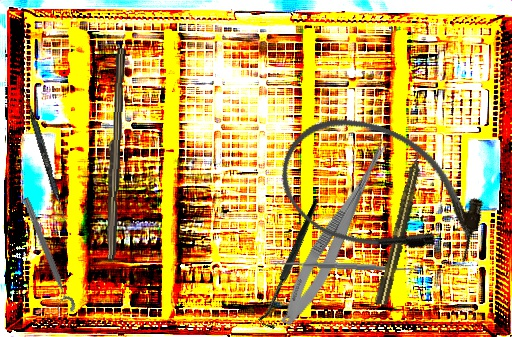Cannula: (263, 96, 502, 288)
Fixation Ring: (13, 195, 78, 318)
Handpiece: (373, 144, 428, 308)
Hook Surgical: (221, 197, 364, 334)
Micro Scissor: (274, 129, 397, 332)
Scalpel Handle: (103, 47, 126, 262)
Spatula Surgical: (20, 91, 72, 229), (274, 254, 420, 278)
